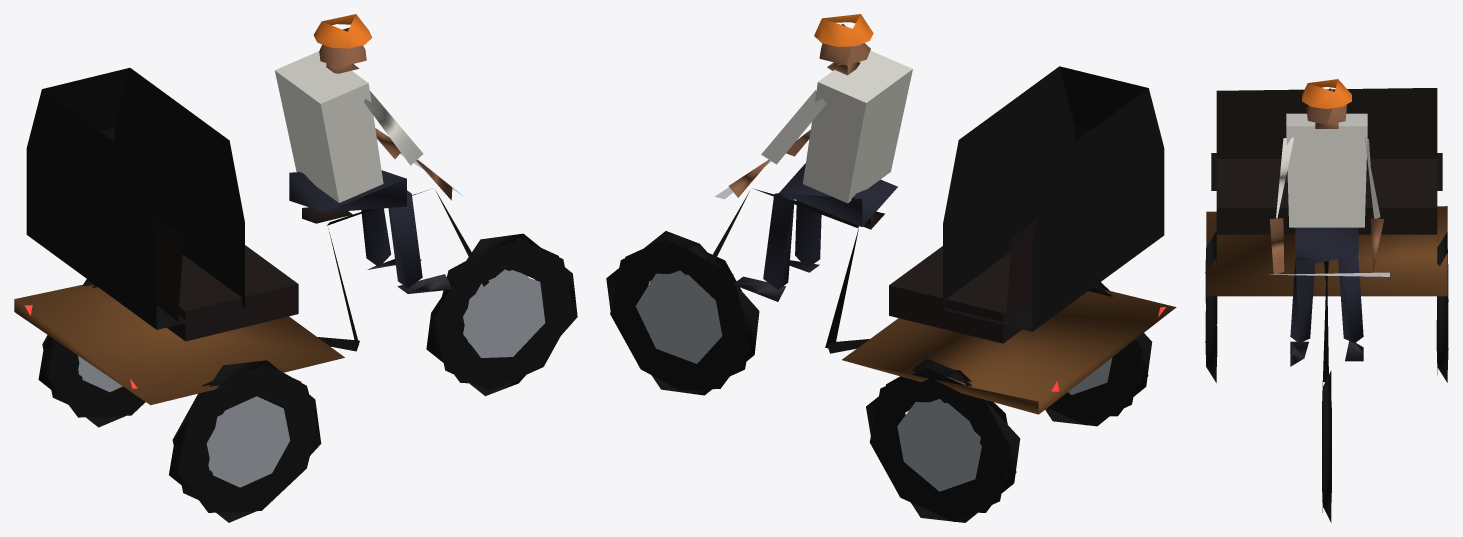
Rendered from cycle_rickshaw_lod1.glb.
3 views of the same model, side by side, from view 1: azimuth 30°, elevation 25°; view 2: azimuth 150°, elevation 25°; view 3: azimuth 270°, elevation 25° (orthographic). The views are drawn at different scales.
Parts seen in each view (by area): view 1: cycle_rickshaw_body, wheel_rr.007, wheel_f.005, wheel_rl.007; view 2: cycle_rickshaw_body, wheel_f.005, wheel_rl.007, wheel_rr.007; view 3: cycle_rickshaw_body, wheel_f.005, wheel_rr.007, wheel_rl.007.
Boxes of the visible parts, x1,y1,x2,y2 form: cycle_rickshaw_body: (14, 14, 489, 405); wheel_rr.007: (169, 360, 321, 522); wheel_f.005: (426, 233, 577, 396); wheel_rl.007: (38, 279, 145, 427); cycle_rickshaw_body: (711, 14, 1176, 414); wheel_f.005: (606, 231, 759, 395); wheel_rl.007: (866, 358, 1020, 522); wheel_rr.007: (1045, 282, 1152, 426); cycle_rickshaw_body: (1206, 79, 1447, 382); wheel_f.005: (1322, 370, 1331, 522); wheel_rr.007: (1205, 231, 1217, 382); wheel_rl.007: (1436, 232, 1448, 382).
Bounding box in the file's own units: 2.41 × 1.9 × 1.16.
2 materials, 1 textured.
